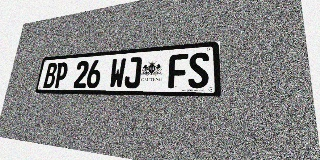2: (73, 60, 89, 88)
6: (86, 60, 102, 88)
B: (43, 63, 58, 88)
F: (168, 53, 188, 88)
J: (124, 57, 142, 88)
P: (53, 62, 69, 88)
S: (188, 52, 209, 88)
W: (108, 58, 126, 88)
